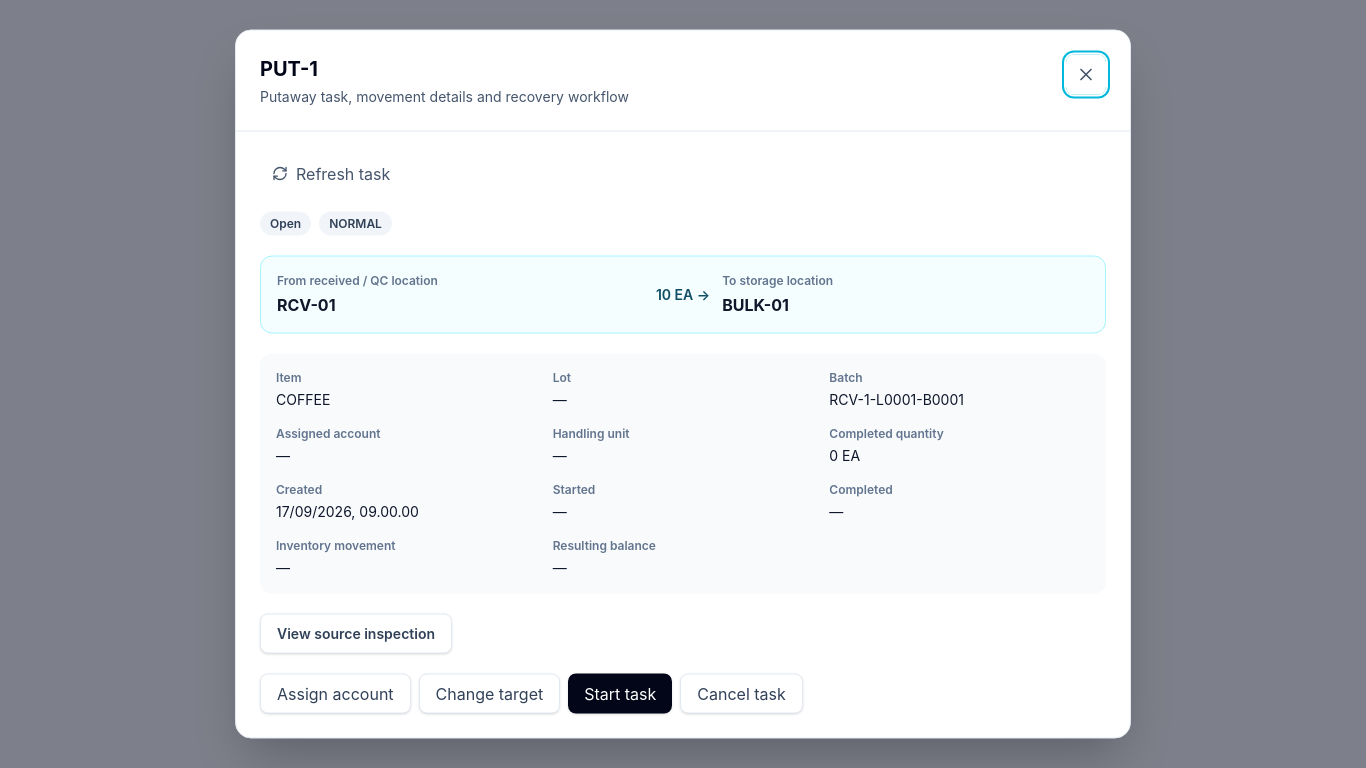
Test: putaway task workflow › explains when there are no permitted scoped assignees
Step 1. Click the button "Assign account" → [335, 694], box [260,674,411,714]
(page scrolled)
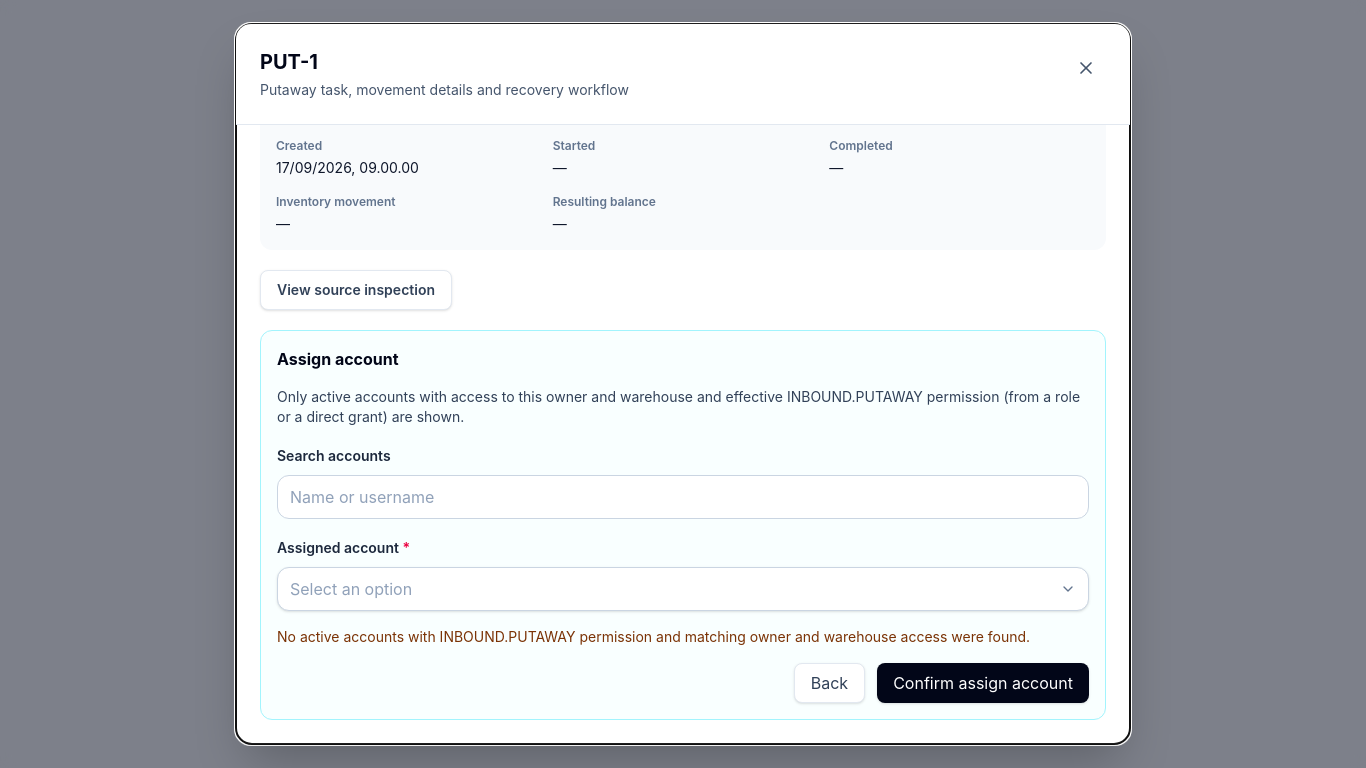
Expected: the text "No active accounts with INBOUND.PUTAWAY permission" is shown, [277,628,1030,645]
